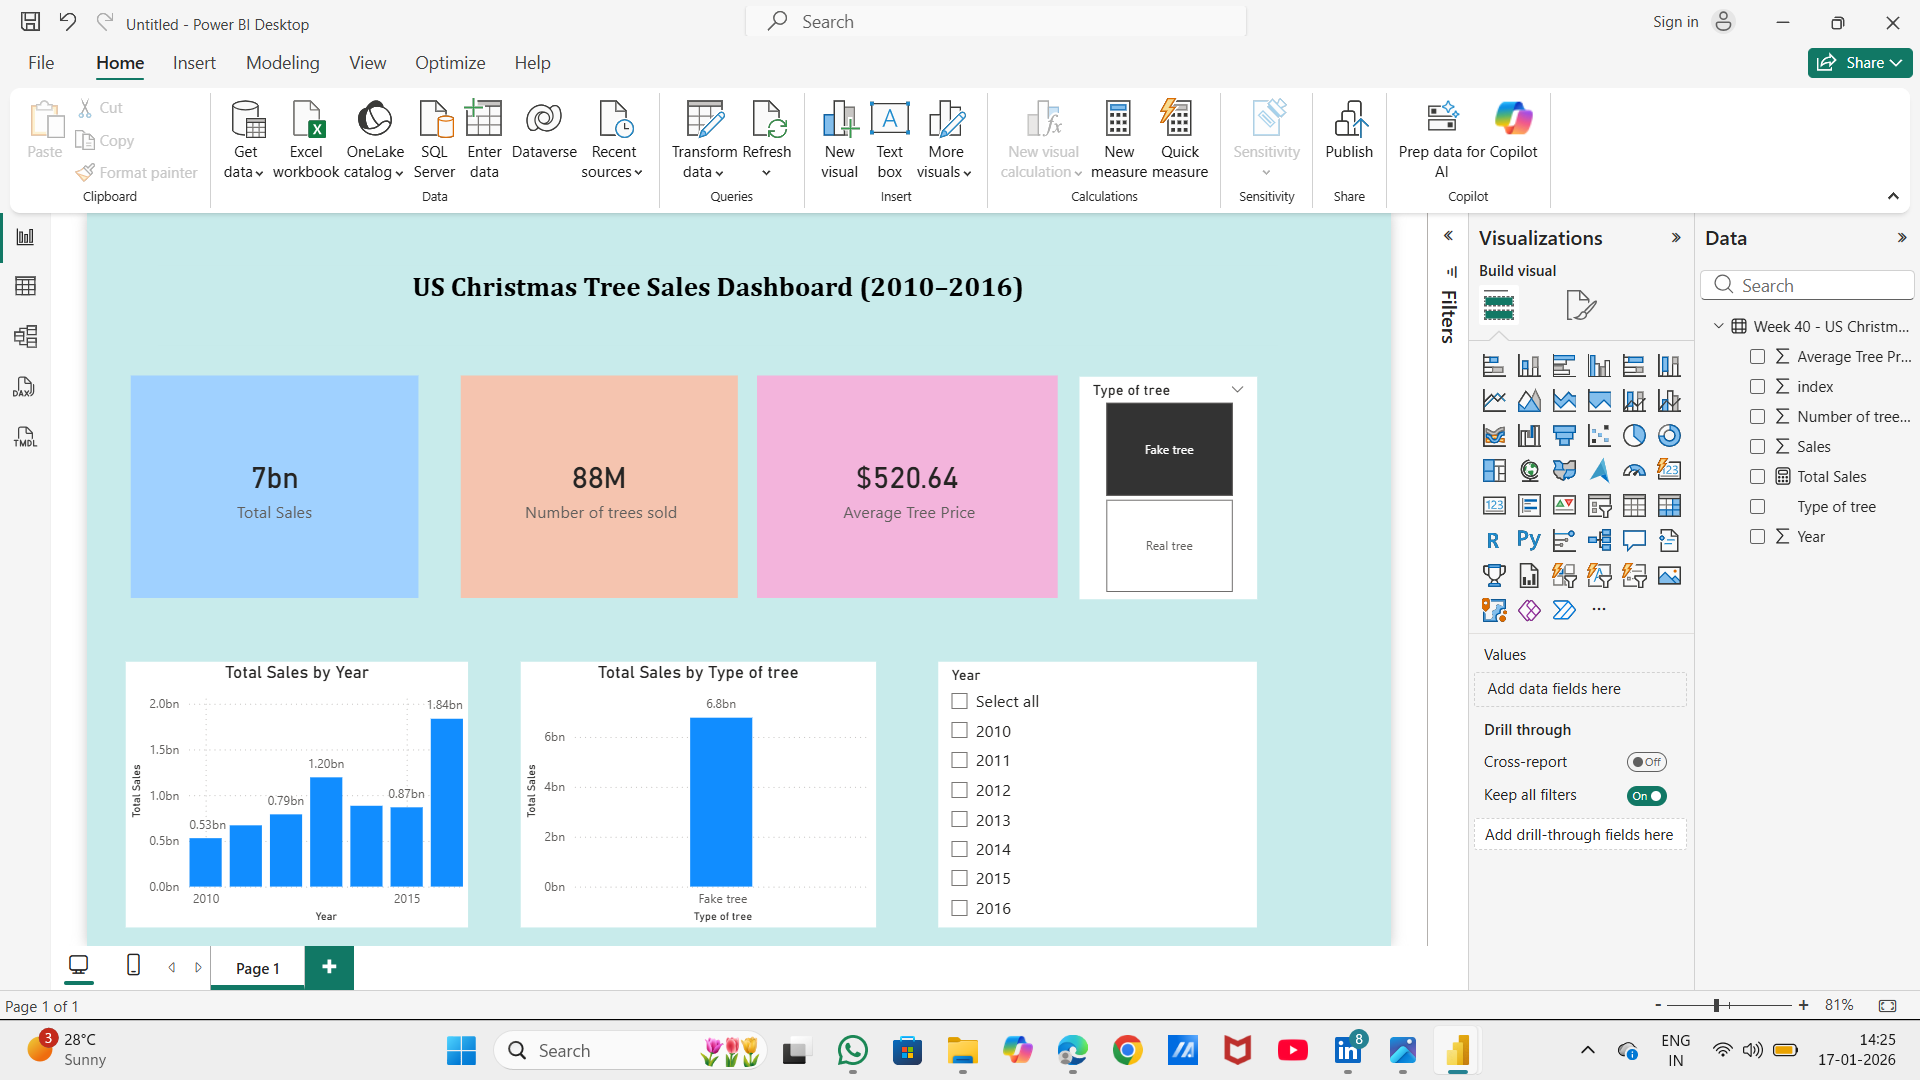

The page's visual inventory and layout, read from the dashboard file:
{"tool":"powerbi","page":{"name":"Page 1","canvas":[1280,720],"ordinal":0},"visuals":[{"type":"clusteredColumnChart","fields":{"Y":["Week 40 - US Christmas Tree Sales - 2010 to 2016.Total Sales"],"Category":["Week 40 - US Christmas Tree Sales - 2010 to 2016.Year"]},"box":[38.4,441,336.2,260.7],"z":0},{"type":"clusteredColumnChart","fields":{"Category":["Week 40 - US Christmas Tree Sales - 2010 to 2016.Type of tree"],"Y":["Week 40 - US Christmas Tree Sales - 2010 to 2016.Total Sales"]},"box":[425.4,441,348.5,260.7],"z":1000},{"type":"card","fields":{"Values":["Week 40 - US Christmas Tree Sales - 2010 to 2016.Total Sales"]},"box":[43.1,160,282.7,218.2],"z":2000},{"type":"card","fields":{"Values":["Sum(Week 40 - US Christmas Tree Sales - 2010 to 2016.Number of trees sold)"]},"box":[366.9,160,271.7,218.2],"z":3000},{"type":"card","fields":{"Values":["Sum(Week 40 - US Christmas Tree Sales - 2010 to 2016.Average Tree Price)"]},"box":[657.8,160,295,218.2],"z":4000},{"type":"slicer","fields":{"Values":["Week 40 - US Christmas Tree Sales - 2010 to 2016.Year"]},"box":[835.7,440.5,312.9,260.7],"z":4002},{"type":"slicer","fields":{"Values":["Week 40 - US Christmas Tree Sales - 2010 to 2016.Type of tree"]},"box":[974.3,160.5,174.3,218.2],"z":4003},{"type":"textbox","box":[70,52.1,1099.1,78.2],"z":4004}]}

Visuals, with their boxes on the page's 1280x720 design canvas (x1, y1, x2, y2). These are canvas units, not pixel positions in the 1920x1080 screenshot, which may show the page scaled, cropped or inside an application window:
clusteredColumnChart - Week 40 - US Christmas Tree Sales - 2010 to 2016.Total Sales x Week 40 - US Christmas Tree Sales - 2010 to 2016.Year: (38,441,375,702)
clusteredColumnChart - Week 40 - US Christmas Tree Sales - 2010 to 2016.Type of tree x Week 40 - US Christmas Tree Sales - 2010 to 2016.Total Sales: (425,441,774,702)
card - Week 40 - US Christmas Tree Sales - 2010 to 2016.Total Sales: (43,160,326,378)
card - Sum(Week 40 - US Christmas Tree Sales - 2010 to 2016.Number of trees sold): (367,160,639,378)
card - Sum(Week 40 - US Christmas Tree Sales - 2010 to 2016.Average Tree Price): (658,160,953,378)
slicer - Week 40 - US Christmas Tree Sales - 2010 to 2016.Year: (836,440,1149,701)
slicer - Week 40 - US Christmas Tree Sales - 2010 to 2016.Type of tree: (974,160,1149,379)
textbox: (70,52,1169,130)
